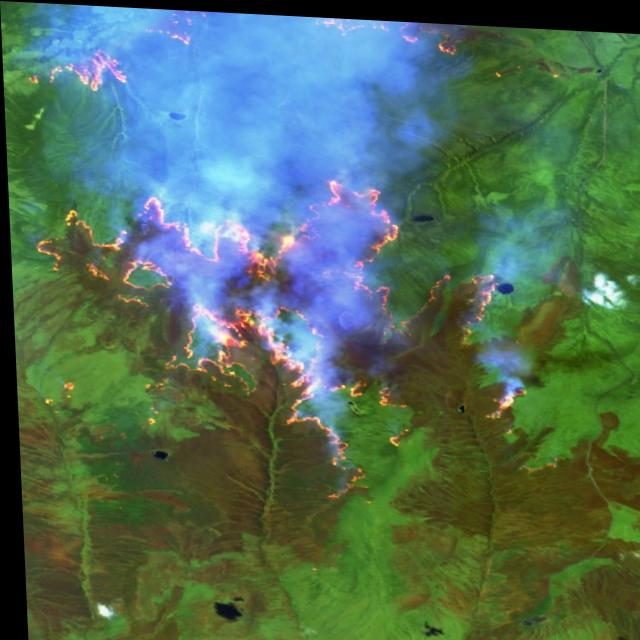fire: (5, 147, 534, 507), (0, 0, 568, 120)
